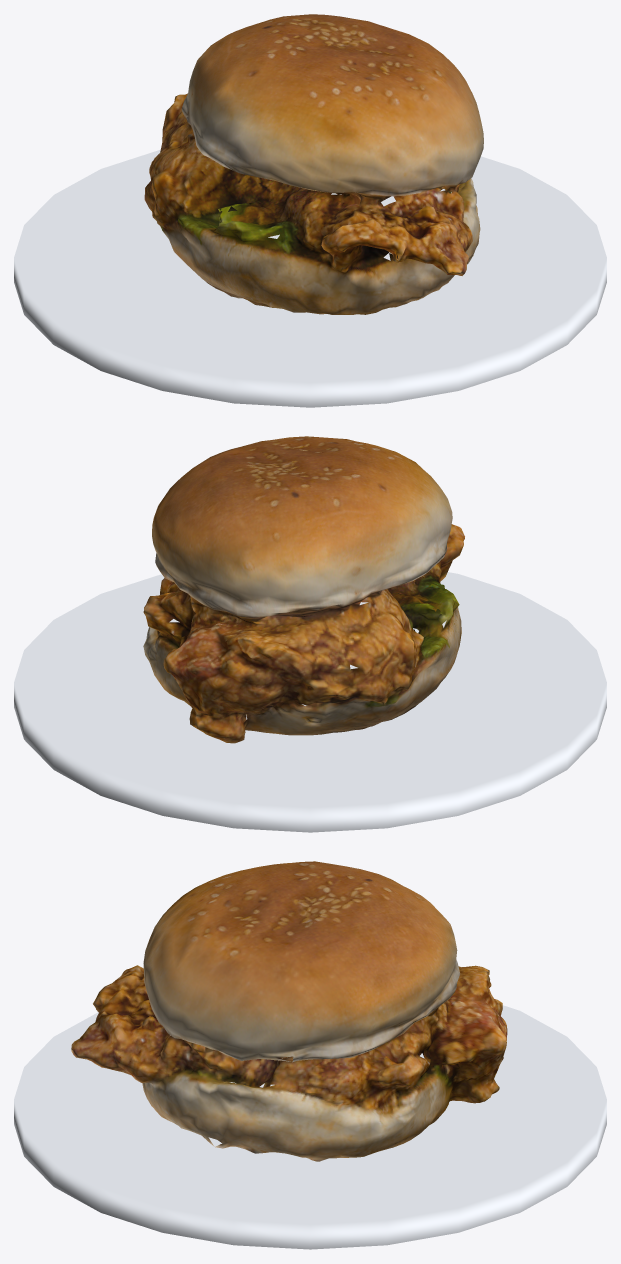
File: Burger.glb
3 renders of one model, top to bottom at view 1: azimuth 30°, elevation 25°; view 2: azimuth 150°, elevation 25°; view 3: azimuth 270°, elevation 25°, orthographic.
Parts seen in each view (by area): view 1: pDisc2; view 2: pDisc2; view 3: pDisc2.
Part boxes in pixels (x1,y1,x2,y2): pDisc2: [14, 14, 606, 407]; pDisc2: [14, 436, 606, 832]; pDisc2: [14, 861, 606, 1249].
Size of the model in its own units: 2 by 0.8966 by 2.
1 material, 1 textured.
